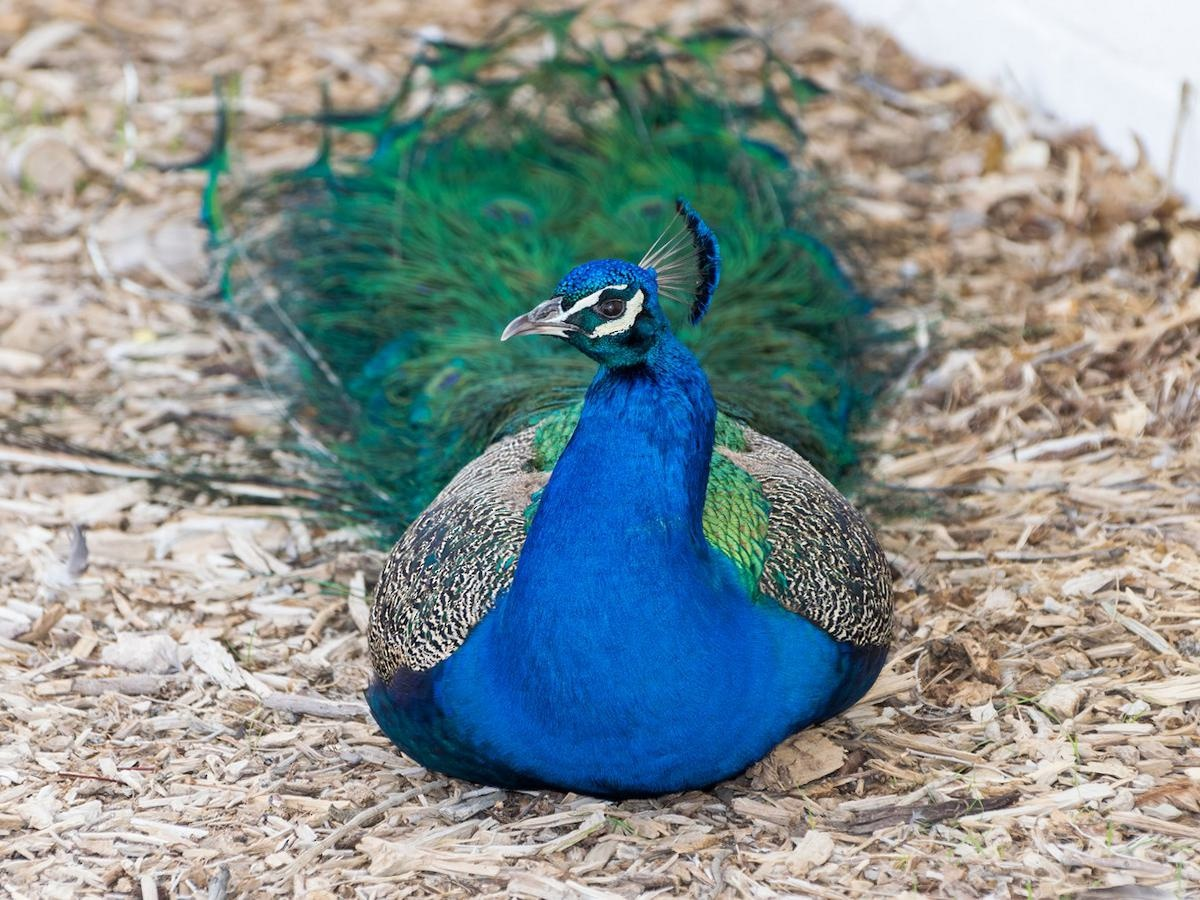peacock: (198, 68, 954, 830)
